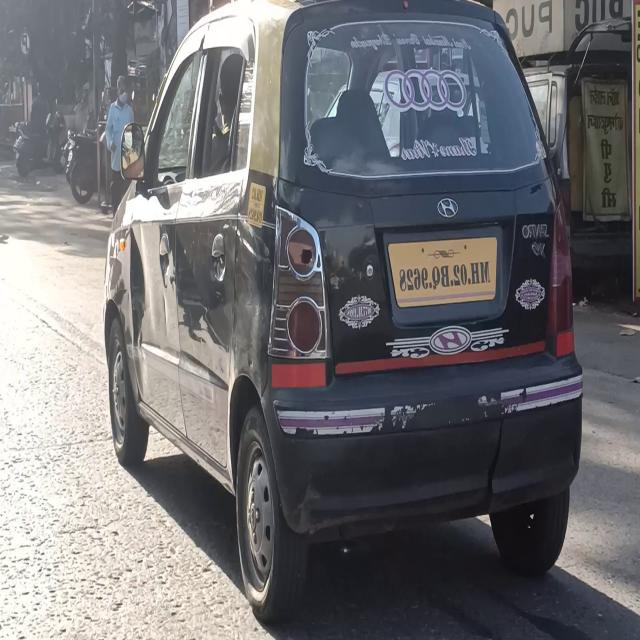license_plate: (385, 230, 503, 316)
